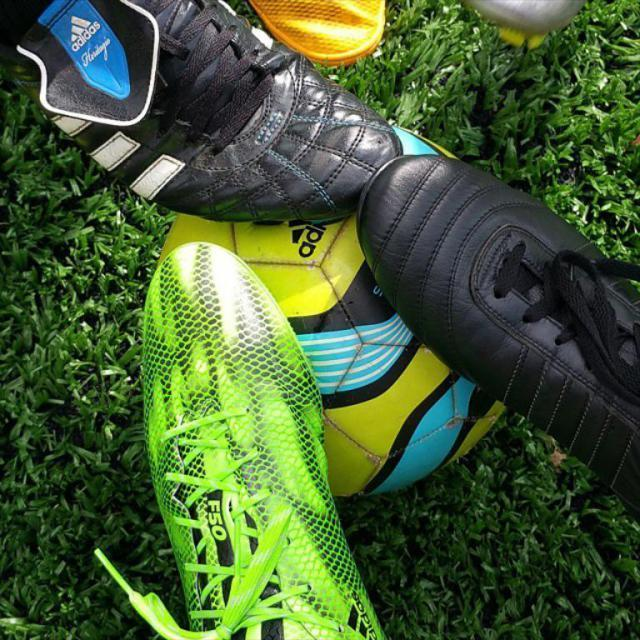ball: (156, 123, 508, 507)
